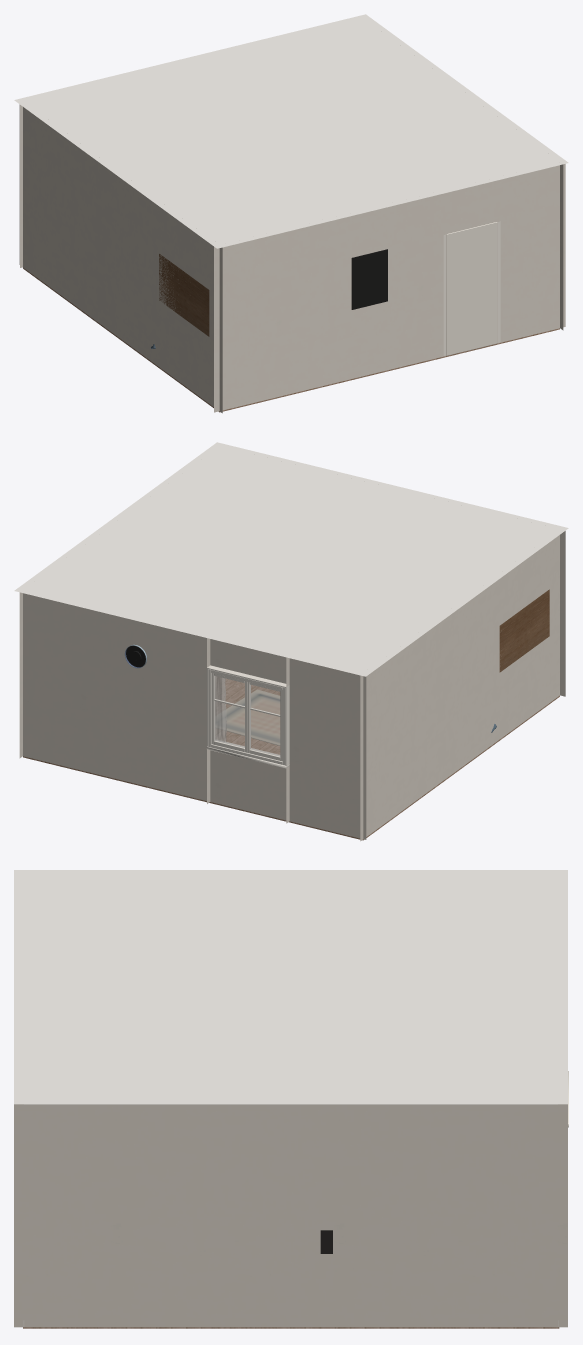
The model's file is room.glb.
The picture shows the model from 3 angles, top to bottom: view 1: azimuth 30°, elevation 25°; view 2: azimuth 150°, elevation 25°; view 3: azimuth 270°, elevation 25°; orthographic projection. The views are drawn at different scales.
Visible parts, largest first — view 1: SM_Ceiling, SM_Wall_Front, SM_Wall_L, SM_Door, SM_Guestbook_Frame, SM_Poster_Frame, SM_Floor, SM_Wall_R; view 2: SM_Ceiling, SM_Wall_Back_R, SM_Wall_L, SM_Wall_Back_L, SM_Wall_Back_Below, window_glass, SM_Floor, SM_Guestbook_Frame, SM_Wall_Back_Above, SM_Rug, SM_WindowFrame, SM_Wall_Front (+4 smaller); view 3: SM_Ceiling, SM_Wall_R, SM_Floor.
Boxes of the visible parts, x1,y1,x2,y2 form: SM_Ceiling: (14,14,568,248); SM_Wall_Front: (214,164,565,412); SM_Wall_L: (19,104,222,413); SM_Door: (446,222,497,355); SM_Guestbook_Frame: (159,254,209,336); SM_Poster_Frame: (351,249,387,309); SM_Floor: (23,267,559,412); SM_Wall_R: (560,164,563,330); SM_Ceiling: (14,442,568,676); SM_Wall_Back_R: (23,593,209,800); SM_Wall_L: (360,535,559,841); SM_Wall_Back_L: (286,658,366,839); SM_Wall_Back_Below: (207,749,289,823); window_glass: (215,676,279,756); SM_Floor: (23,677,559,840); SM_Guestbook_Frame: (499,589,549,672); SM_Wall_Back_Above: (207,638,289,686); SM_Rug: (216,689,280,745); SM_WindowFrame: (208,669,285,765); SM_Wall_Front: (560,531,565,696); SM_Ceiling: (14,870,567,1104); SM_Wall_R: (14,1104,567,1327); SM_Floor: (23,1327,559,1328).
Size of the model in its own units: 6.2 by 2.94 by 6.21.
85 materials, 26 textured.
